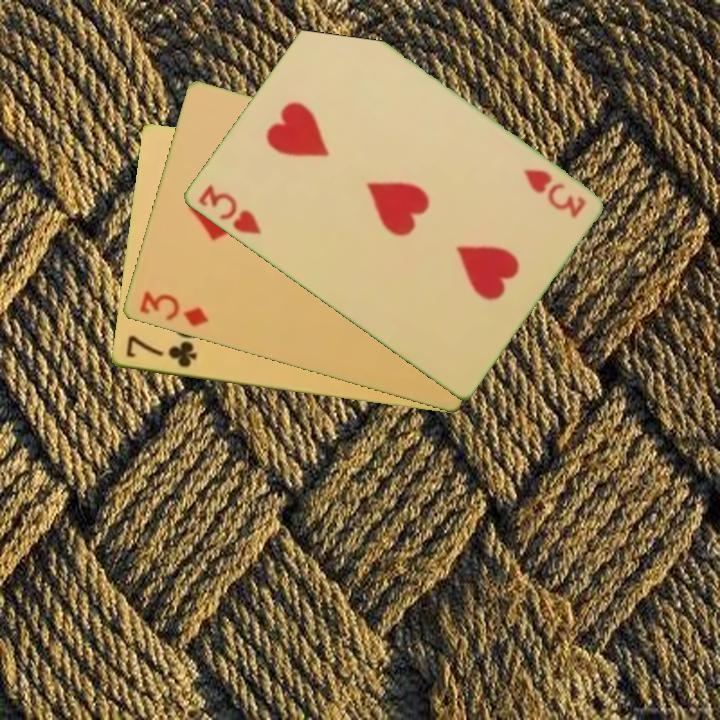3d: (135, 288, 211, 330)
3h: (194, 181, 264, 238), (519, 165, 588, 222)
7c: (122, 332, 200, 371)
